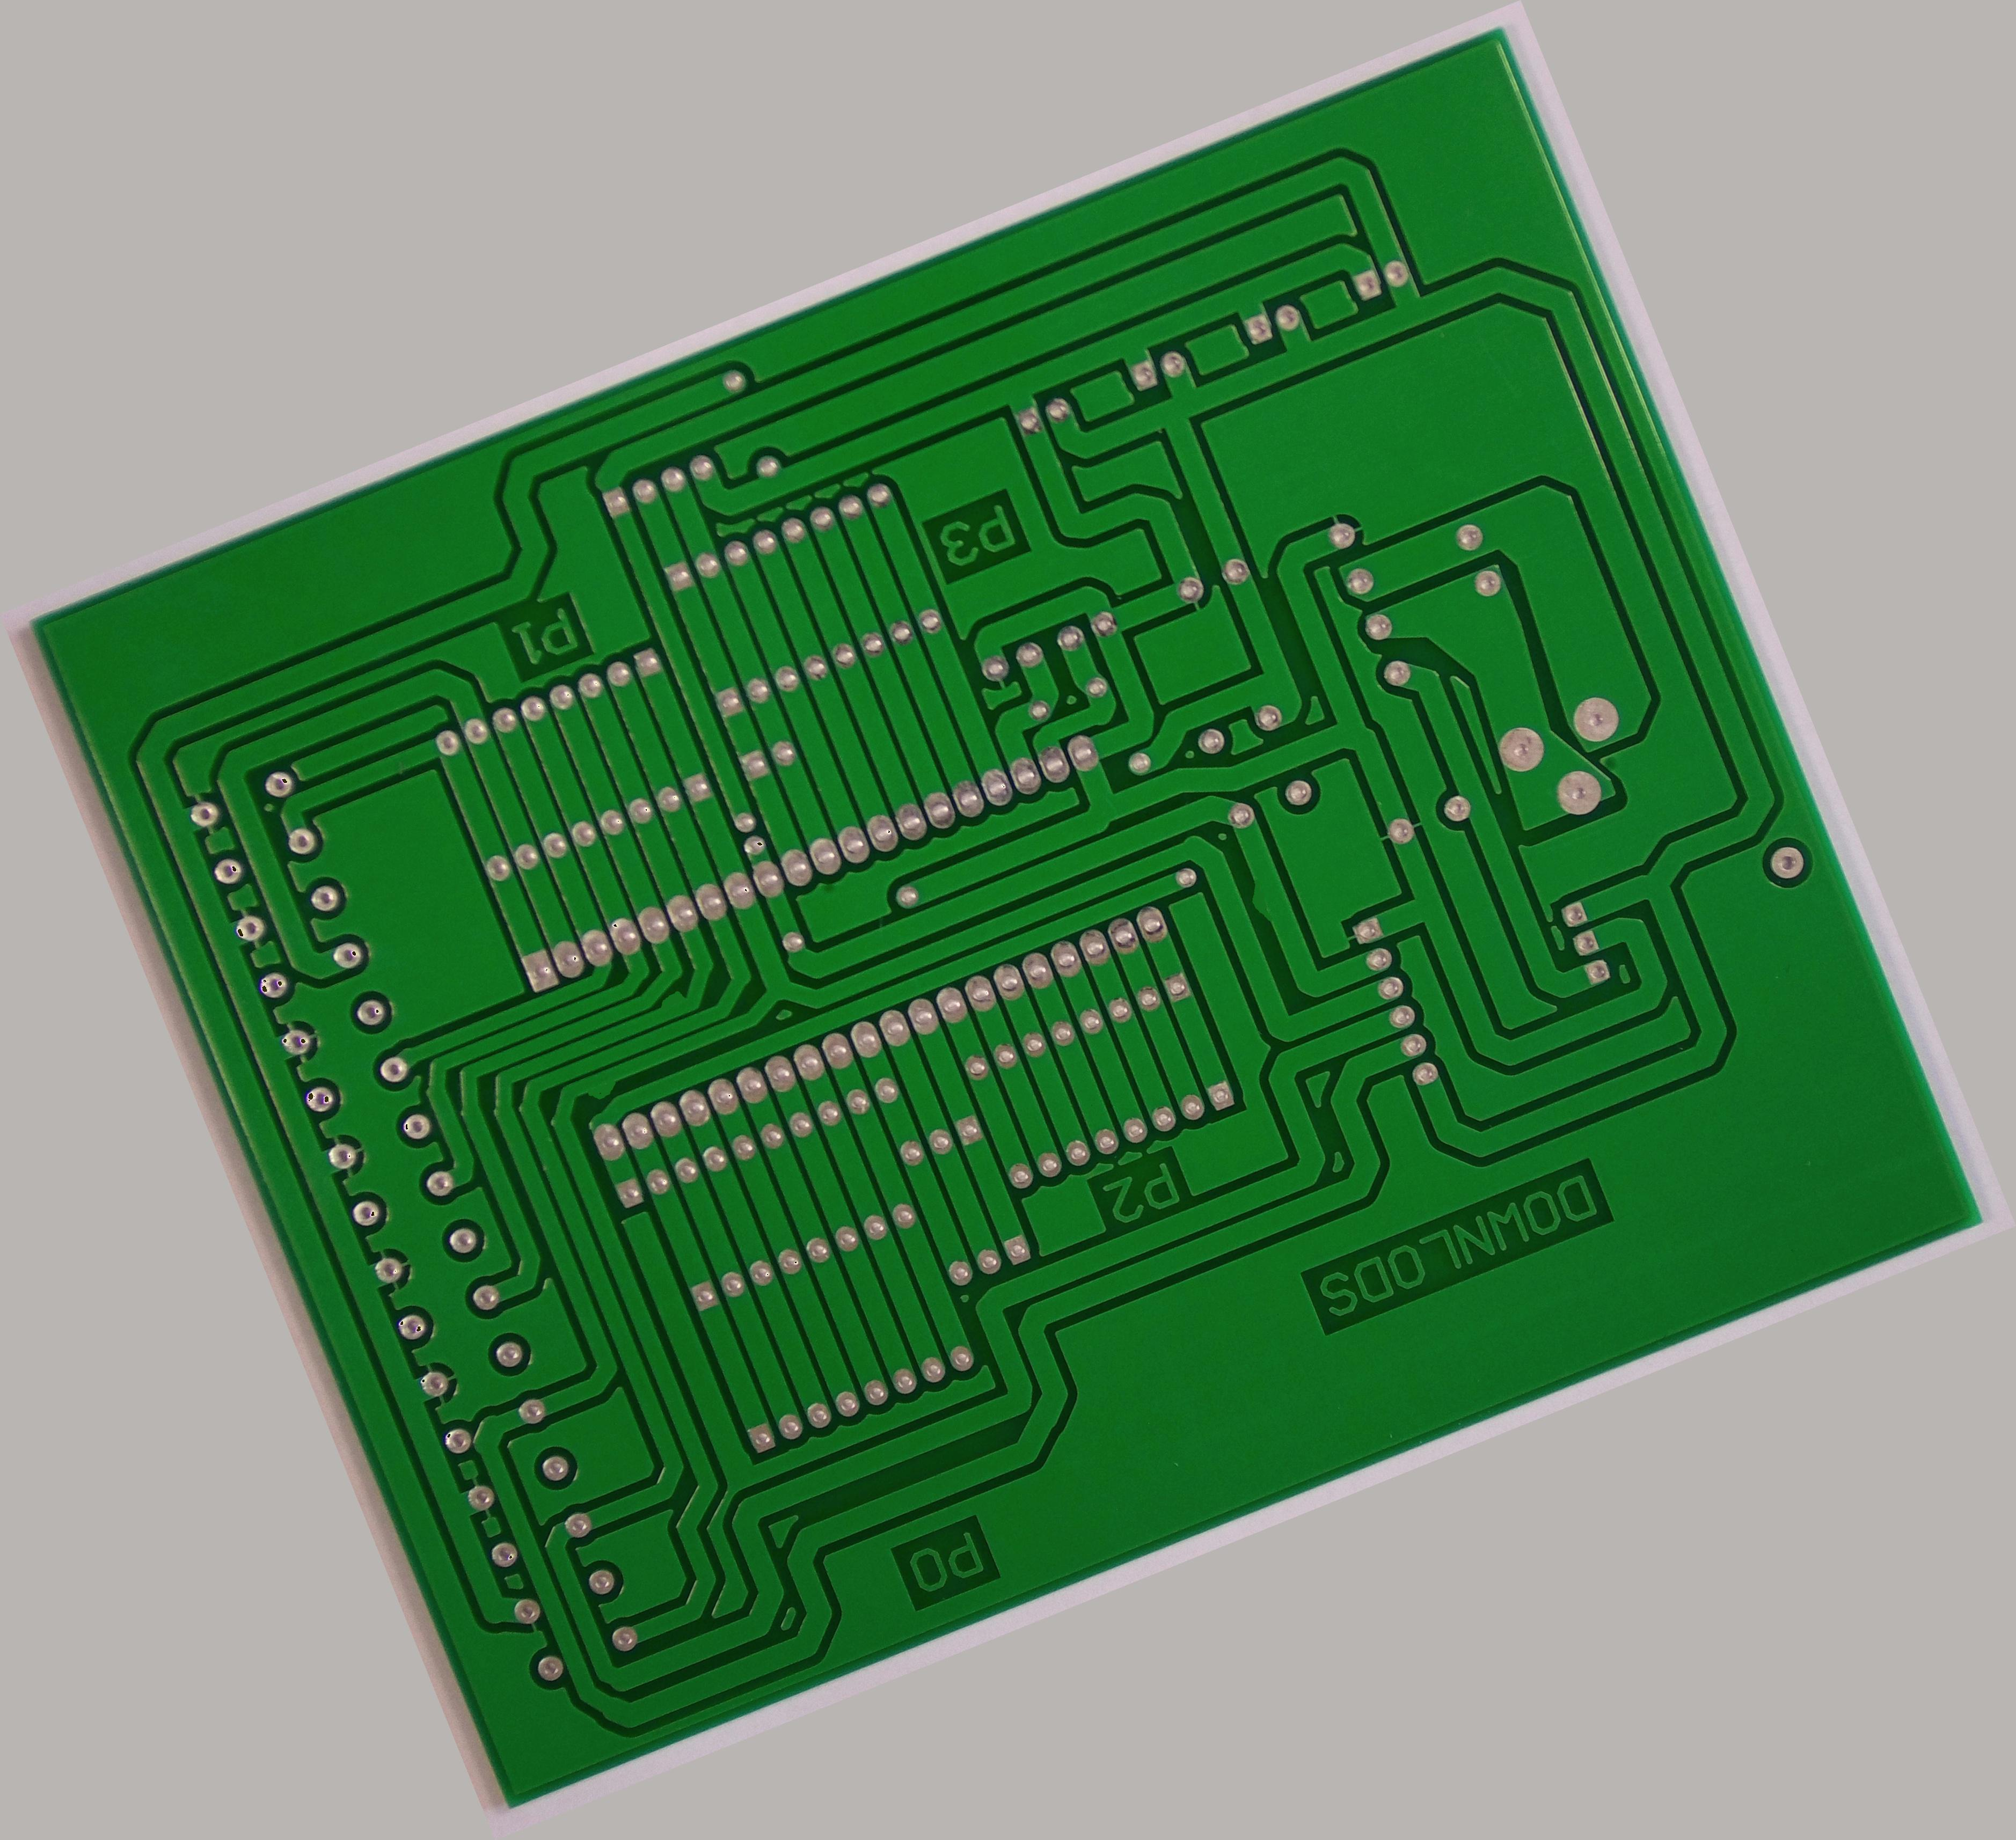spur: (1242, 869, 1287, 932), (572, 1067, 632, 1111), (652, 983, 695, 1018)
